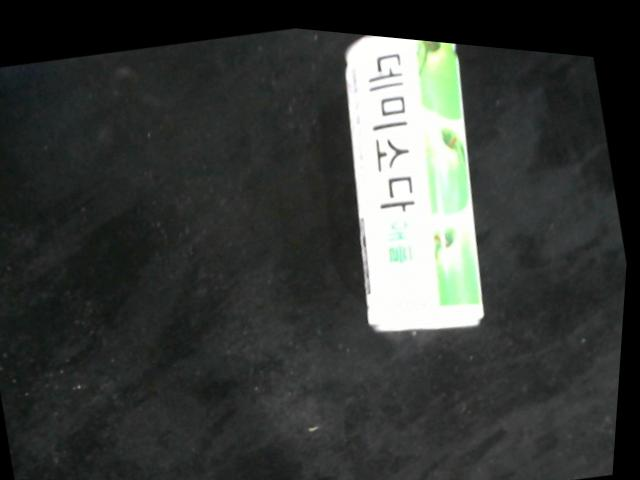can: (341, 27, 489, 325)
